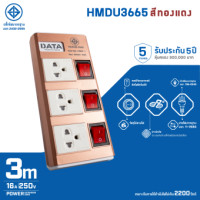Three_eye_plug: (26, 30, 117, 172)
